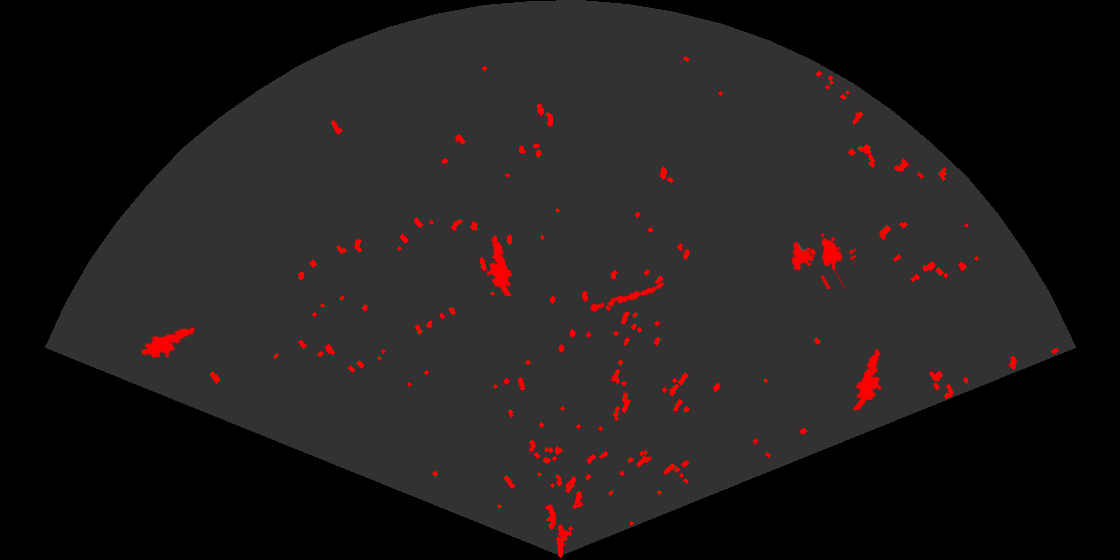cage: (790, 231, 856, 289)
chain: (586, 281, 667, 314)
frogman: (851, 347, 883, 410), (142, 326, 197, 360), (485, 234, 514, 296)
